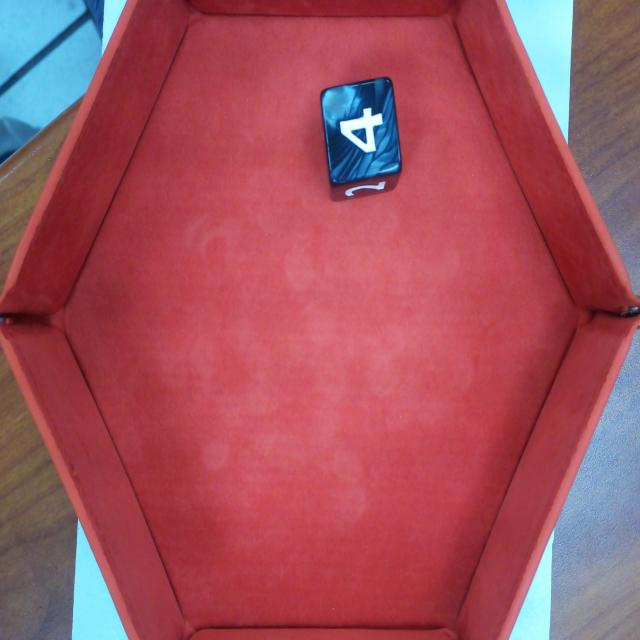dice: (319, 75, 404, 188)
